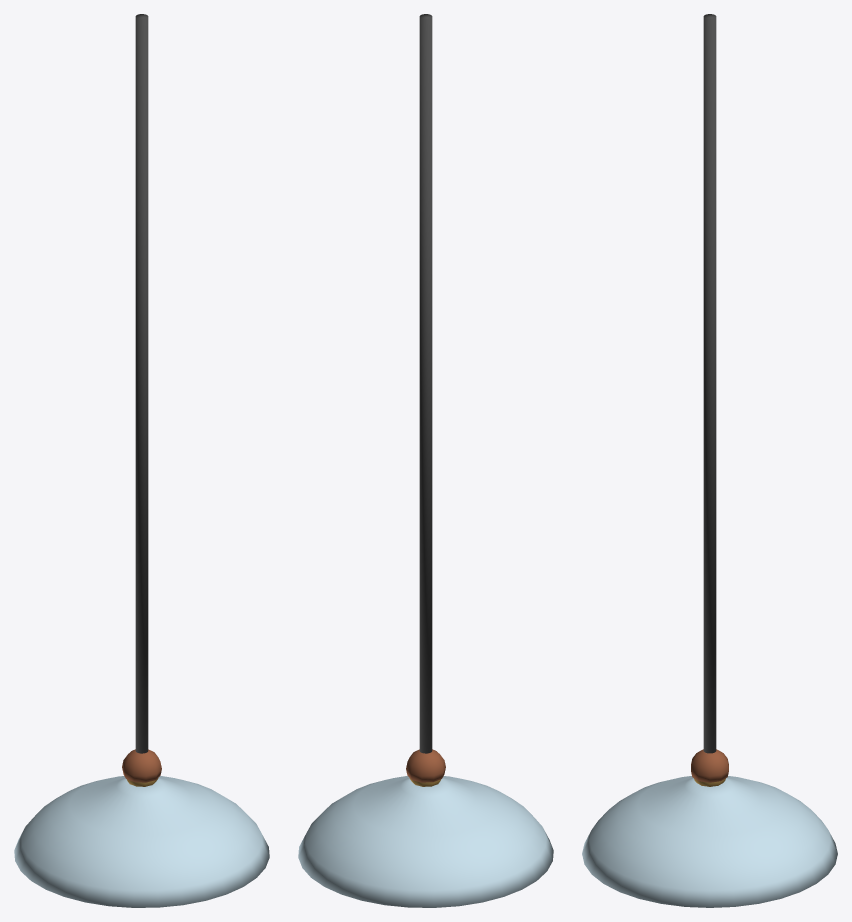
The model's file is Lamp.fbx.
3 views of the same model, side by side, from view 1: azimuth 30°, elevation 25°; view 2: azimuth 150°, elevation 25°; view 3: azimuth 270°, elevation 25° (orthographic).
Parts seen in each view (by area): view 1: LampProtector, LampHolder; view 2: LampProtector, LampHolder; view 3: LampProtector, LampHolder.
Part boxes in pixels (x1=…): LampProtector: x1=14, y1=776, x2=269, y2=907; LampHolder: x1=122, y1=14, x2=161, y2=782; LampProtector: x1=298, y1=776, x2=553, y2=907; LampHolder: x1=406, y1=14, x2=445, y2=782; LampProtector: x1=582, y1=776, x2=837, y2=907; LampHolder: x1=691, y1=14, x2=728, y2=782.
Size of the model in its own units: 196 by 750 by 196.
